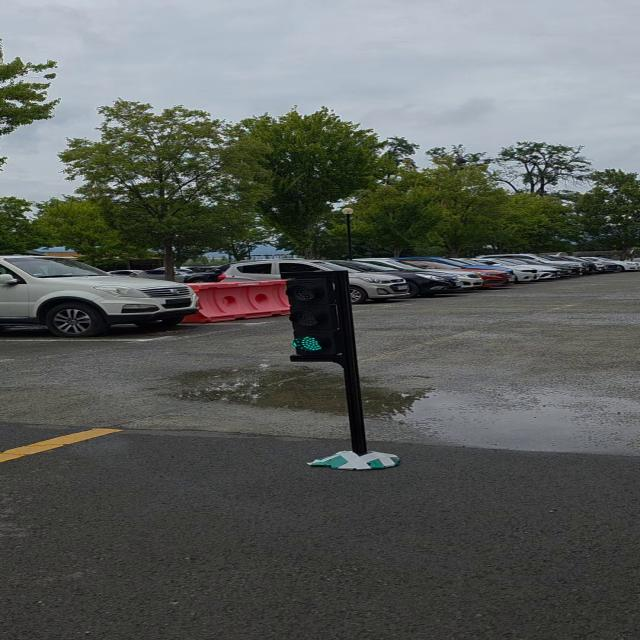green: (282, 272, 357, 362)
